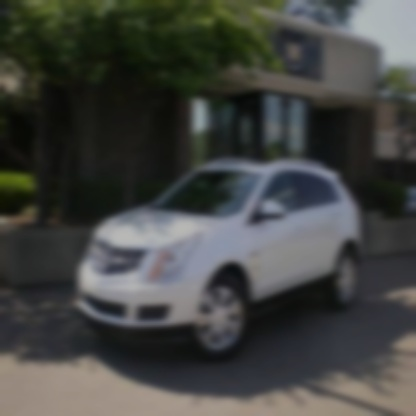Vehicle: (75, 153, 368, 356)
